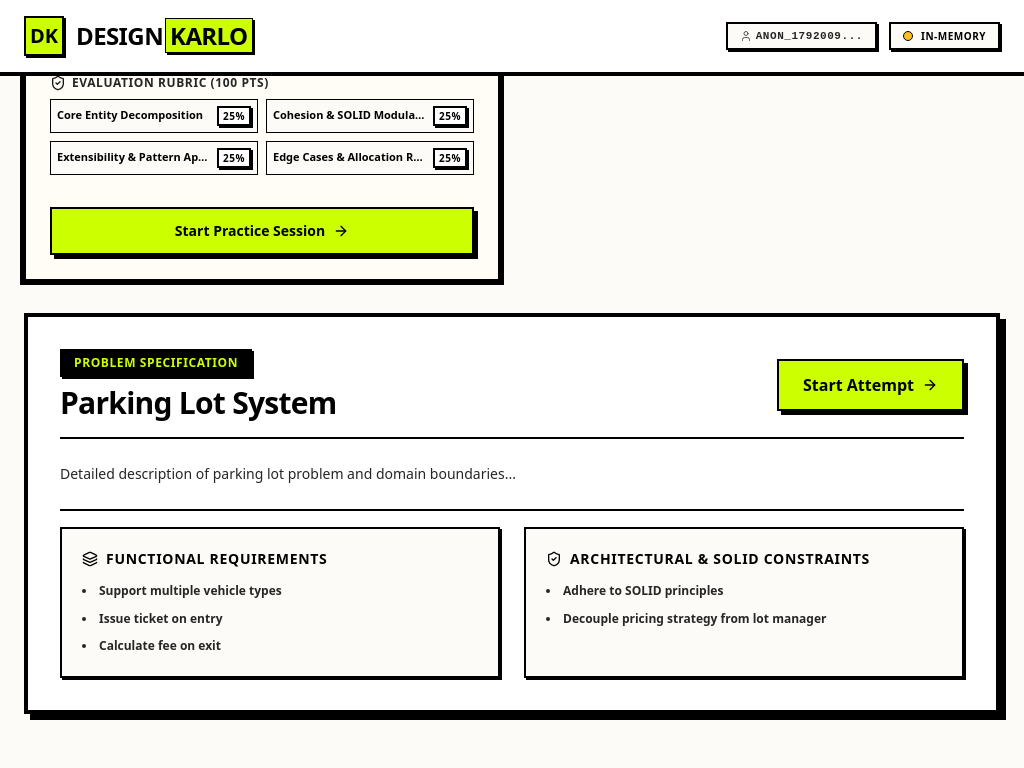
DesignKarlo Frontend App › 9. Existing editor submission, evaluation, and revision functionality remains intact
(page scrolled)
Click the button "Start Attempt". click: (870, 384)
box: [777,358,964,410]
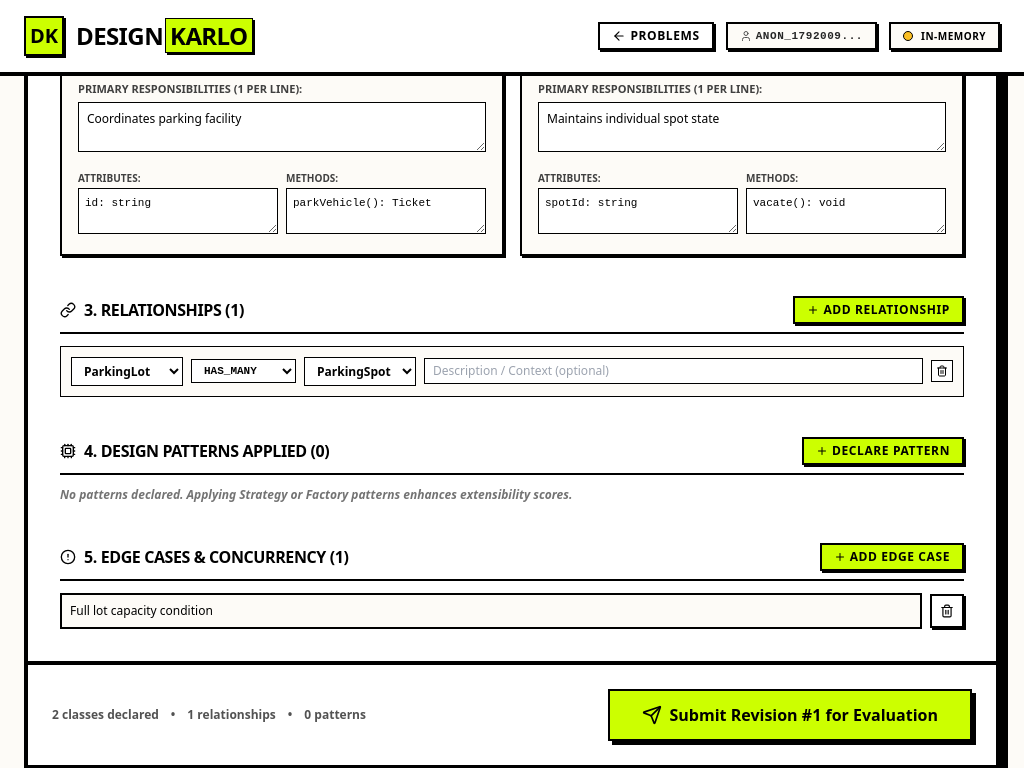
Expected: the button "Submit Revision #1 for Evaluation" is shown
Submit revision #1
Click the button "Submit Revision #1 for Evaluation". click: (790, 714)
box: [608,688,972,740]
(page scrolled)
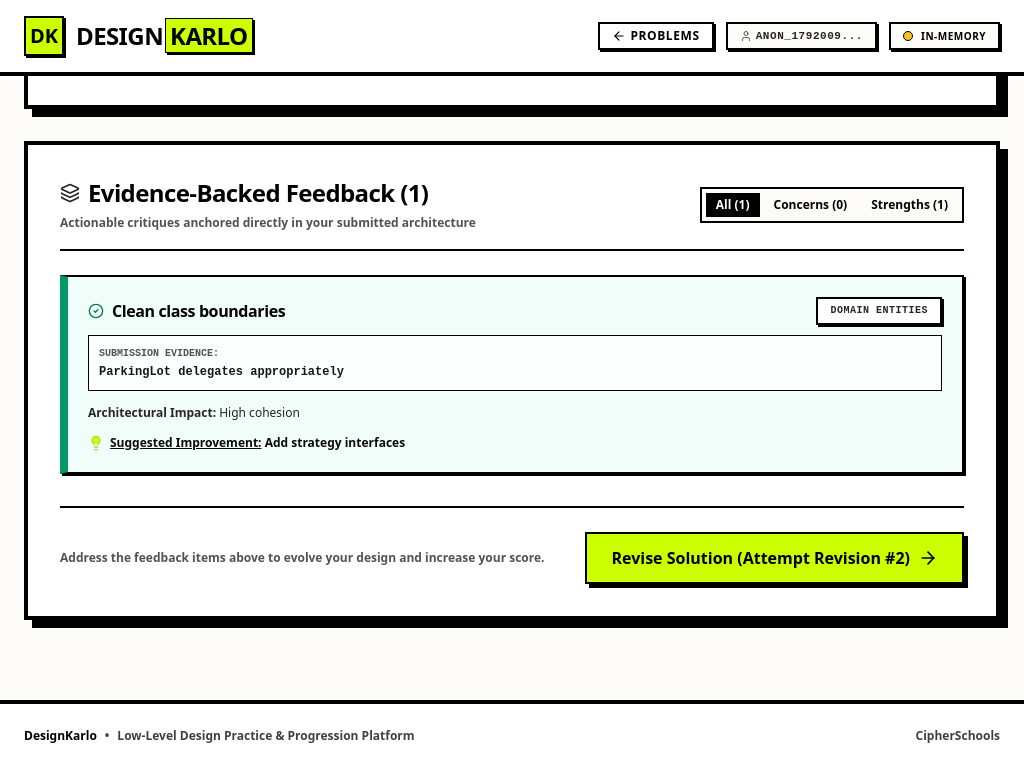
Expected: the heading "Clean class boundaries" is shown, [112,299,285,323]
Expected: the button "Revise Solution (Attempt Revision #2)" is shown
Click revise
Click the button "Revise Solution (Attempt Revision #2)". click: (775, 558)
box: [586,532,964,584]
(page scrolled)
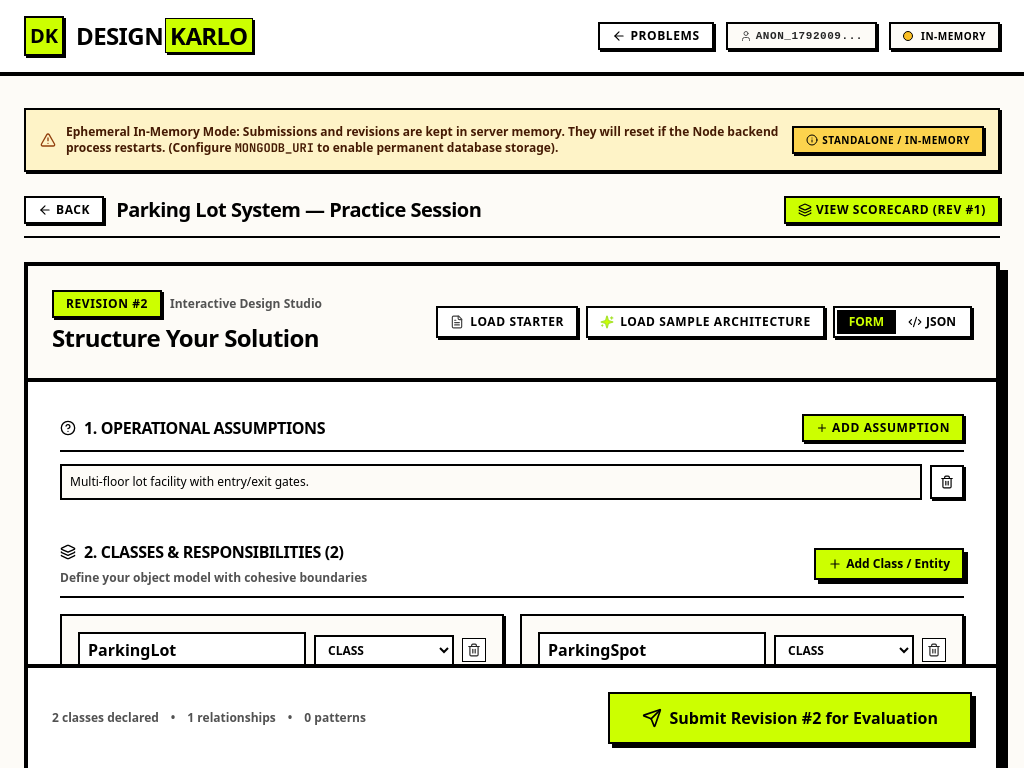
Expected: the text "Revision #2" is shown, [52,290,162,318]
Expected: the heading "Structure Your Solution" is shown, [52,322,322,354]
